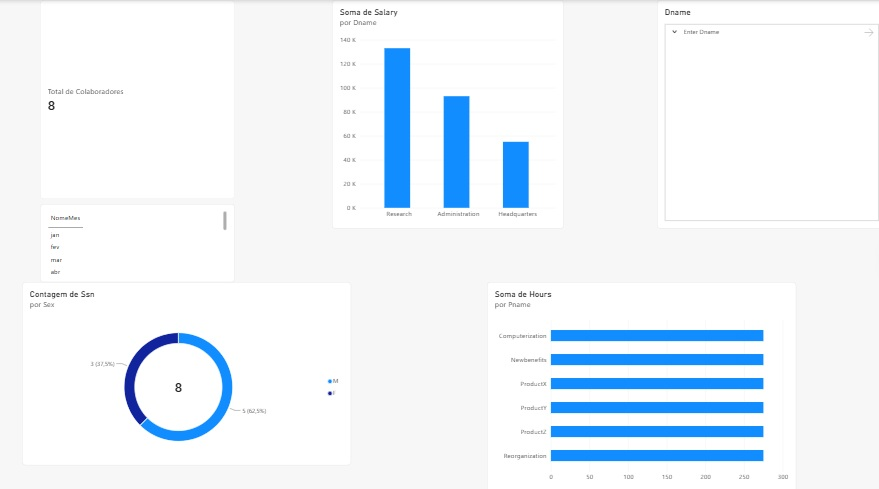

This screenshot's page, from the dashboard's own definition file:
{"tool":"powerbi","page":{"name":"Página 1","canvas":[1920,1080],"ordinal":0},"visuals":[{"type":"cardVisual","fields":{"Data":["Count(employee.Ssn)"]},"box":[90.7,0,420.8,430.9],"z":0},{"type":"clusteredColumnChart","fields":{"Category":["department.Dname"],"Y":["Sum(employee.Salary)"]},"box":[720.6,0,501.4,493.9],"z":1},{"type":"donutChart","fields":{"Category":["employee.Sex"],"Y":["Count(employee.Ssn)"]},"box":[52.9,609.8,710.6,395.6],"z":2},{"type":"barChart","fields":{"Category":["project.Pname"],"Y":["Sum(works_on.Hours)"]},"box":[1055.7,609.8,667.7,453.5],"z":3},{"type":"textSlicer","fields":{"Values":["department.Dname"]},"box":[1423.6,0,496.4,493.9],"z":4},{"type":"tableEx","fields":{"Values":["D_Date.NomeMes"]},"box":[91,441,421,169],"z":5}]}

Visuals, with their boxes in screenshot pixels (x1, y1, x2, y2), scaled from the page's 1920x1080 canvas onto the 879x489 screenshot:
cardVisual - Count(employee.Ssn): 42,0,234,195
clusteredColumnChart - department.Dname x Sum(employee.Salary): 330,0,559,224
donutChart - employee.Sex x Count(employee.Ssn): 24,276,350,455
barChart - project.Pname x Sum(works_on.Hours): 483,276,789,481
textSlicer - department.Dname: 652,0,878,224
tableEx - D_Date.NomeMes: 42,200,234,276
